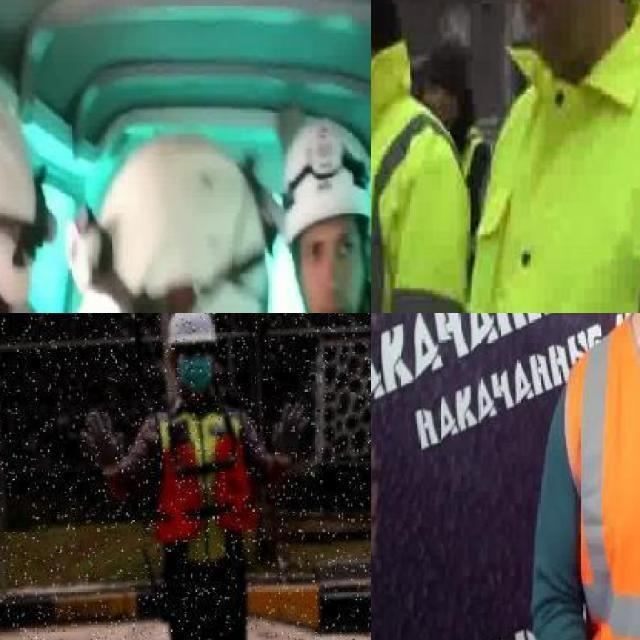apron: (78, 408, 128, 479), (267, 400, 312, 468)
